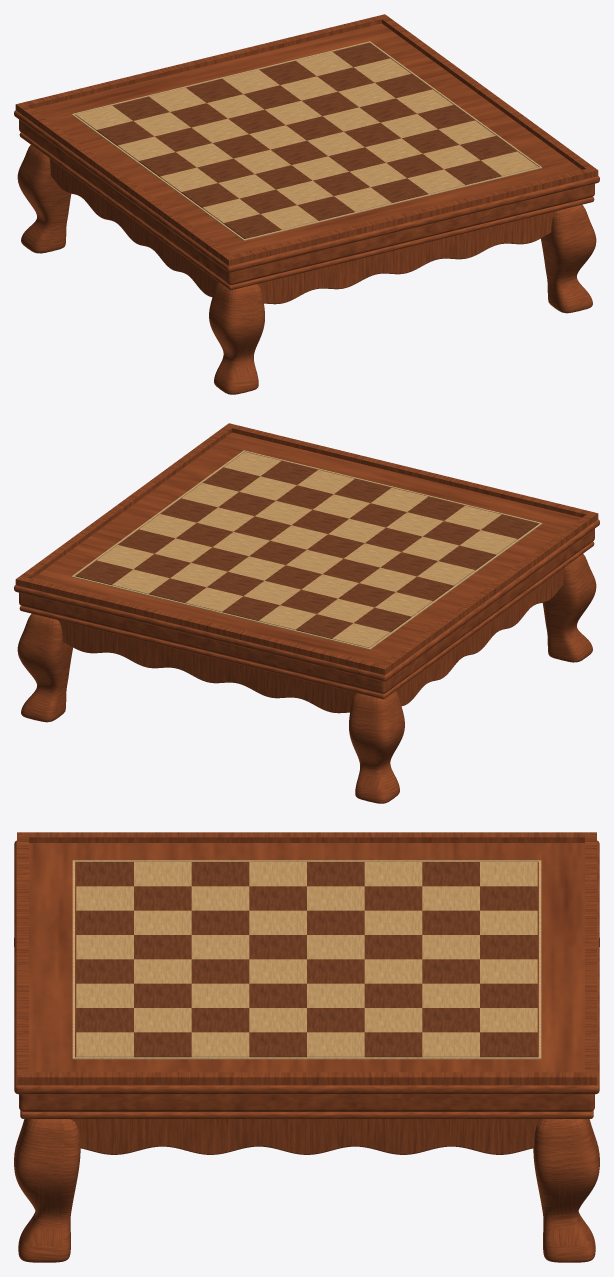
The model's file is wooden-chess-table.glb.
The picture shows the model from 3 angles, top to bottom: view 1: azimuth 30°, elevation 25°; view 2: azimuth 150°, elevation 25°; view 3: azimuth 270°, elevation 25°; orthographic projection. The views are drawn at different scales.
Visible parts, largest first — view 1: Wood surface beneath inlay, Solid tabletop, Scalloped apron 1, Carved cabriole leg -1 -1, Upper rolled molding, Carved cabriole leg 1 -1, Raised outer wooden rim 1, Carved cabriole leg -1 1, Lower decorative molding, Raised outer wooden rim 3, Scalloped apron 4, Raised outer wooden rim 4 (+67 smaller); view 2: Wood surface beneath inlay, Solid tabletop, Scalloped apron 3, Carved cabriole leg -1 1, Upper rolled molding, Carved cabriole leg 1 1, Raised outer wooden rim 3, Carved cabriole leg -1 -1, Lower decorative molding, Raised outer wooden rim 1, Scalloped apron 4, Raised outer wooden rim 4 (+67 smaller); view 3: Wood surface beneath inlay, Scalloped apron 2, Solid tabletop, Raised outer wooden rim 2, Carved cabriole leg 1 1, Carved cabriole leg 1 -1, Upper rolled molding, Raised outer wooden rim 4, Lower decorative molding, Raised outer wooden rim 1, Raised outer wooden rim 3, Inlay H3 (+67 smaller).
Boxes of the visible parts, x1,y1,x2,y2 form: Wood surface beneath inlay: (32, 23, 581, 255); Solid tabletop: (19, 119, 594, 284); Scalloped apron 1: (257, 211, 555, 304); Carved cabriole leg -1 -1: (209, 282, 264, 394); Upper rolled molding: (14, 110, 599, 272); Carved cabriole leg 1 -1: (541, 205, 596, 313); Raised outer wooden rim 1: (229, 169, 598, 266); Carved cabriole leg -1 1: (17, 145, 71, 253); Lower decorative molding: (19, 132, 594, 290); Raised outer wooden rim 3: (16, 14, 384, 108); Scalloped apron 4: (49, 158, 217, 296); Raised outer wooden rim 4: (15, 104, 231, 265); Wood surface beneath inlay: (32, 432, 581, 664); Solid tabletop: (19, 528, 594, 693); Scalloped apron 3: (58, 620, 356, 713); Carved cabriole leg -1 1: (349, 691, 404, 803); Upper rolled molding: (14, 519, 599, 681); Carved cabriole leg 1 1: (17, 614, 72, 722); Raised outer wooden rim 3: (15, 578, 384, 675); Carved cabriole leg -1 -1: (542, 554, 596, 662); Lower decorative molding: (19, 541, 594, 699); Raised outer wooden rim 1: (229, 423, 597, 517); Scalloped apron 4: (396, 567, 564, 705); Raised outer wooden rim 4: (382, 513, 598, 674); Wood surface beneath inlay: (29, 843, 584, 1072); Scalloped apron 2: (71, 1119, 542, 1154); Solid tabletop: (19, 1094, 594, 1111); Raised outer wooden rim 2: (17, 1072, 596, 1085); Carved cabriole leg 1 1: (533, 1119, 599, 1262); Carved cabriole leg 1 -1: (14, 1119, 80, 1262); Upper rolled molding: (14, 840, 599, 1094); Raised outer wooden rim 4: (18, 832, 595, 842); Lower decorative molding: (20, 1110, 593, 1118); Raised outer wooden rim 1: (17, 832, 28, 1076); Raised outer wooden rim 3: (585, 832, 596, 1076); Inlay H3: (191, 1032, 249, 1057).
Size of the model in its own units: 1.02 by 0.3618 by 1.02.
4 materials, 4 textured.
